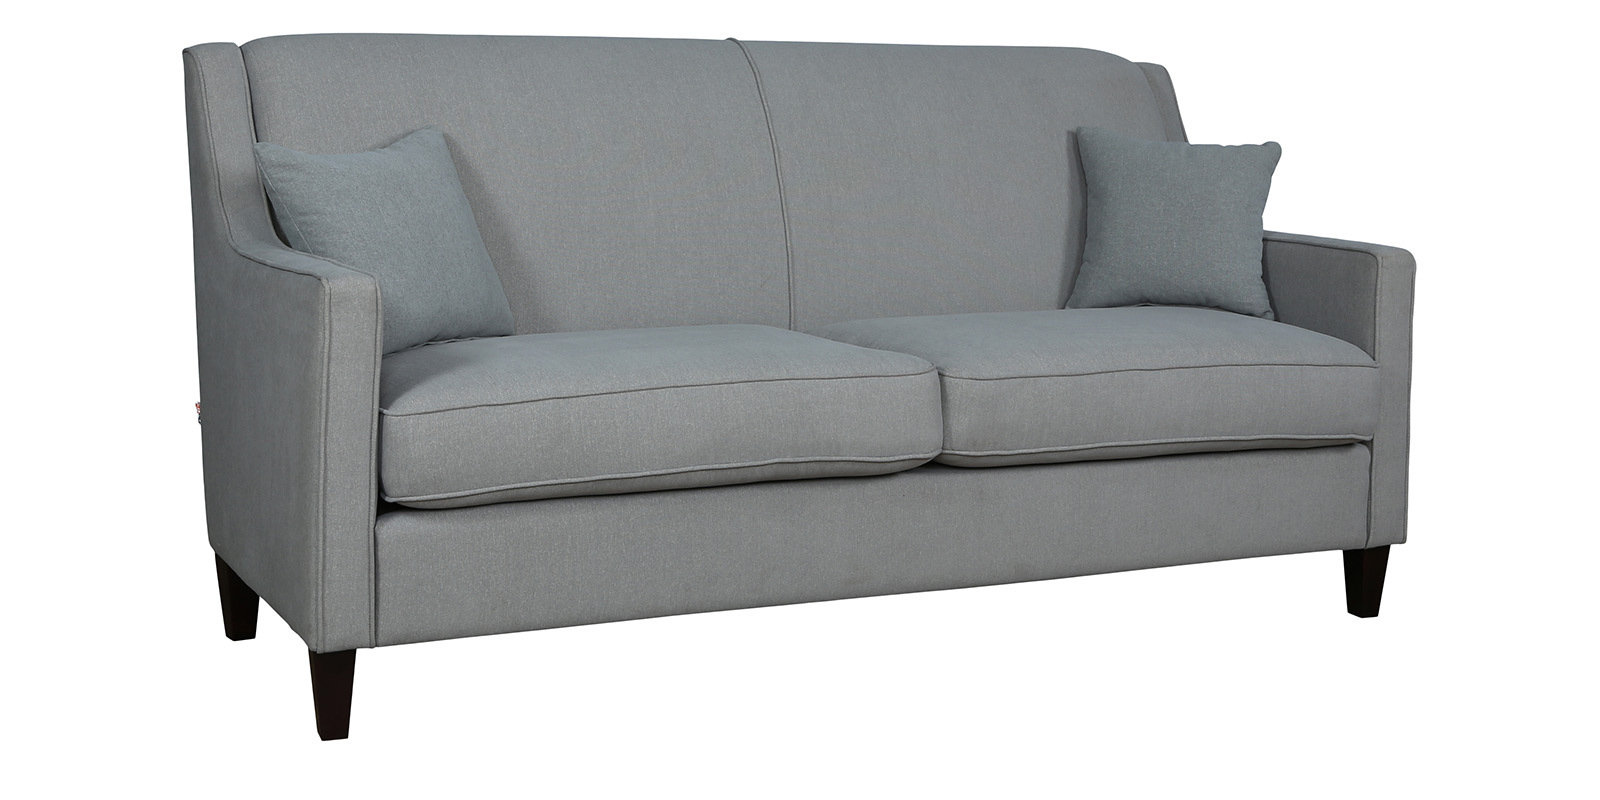Oscar Three Seater Sofa in Ash Grey Colour by CasaCraft: (180, 32, 1415, 742)
